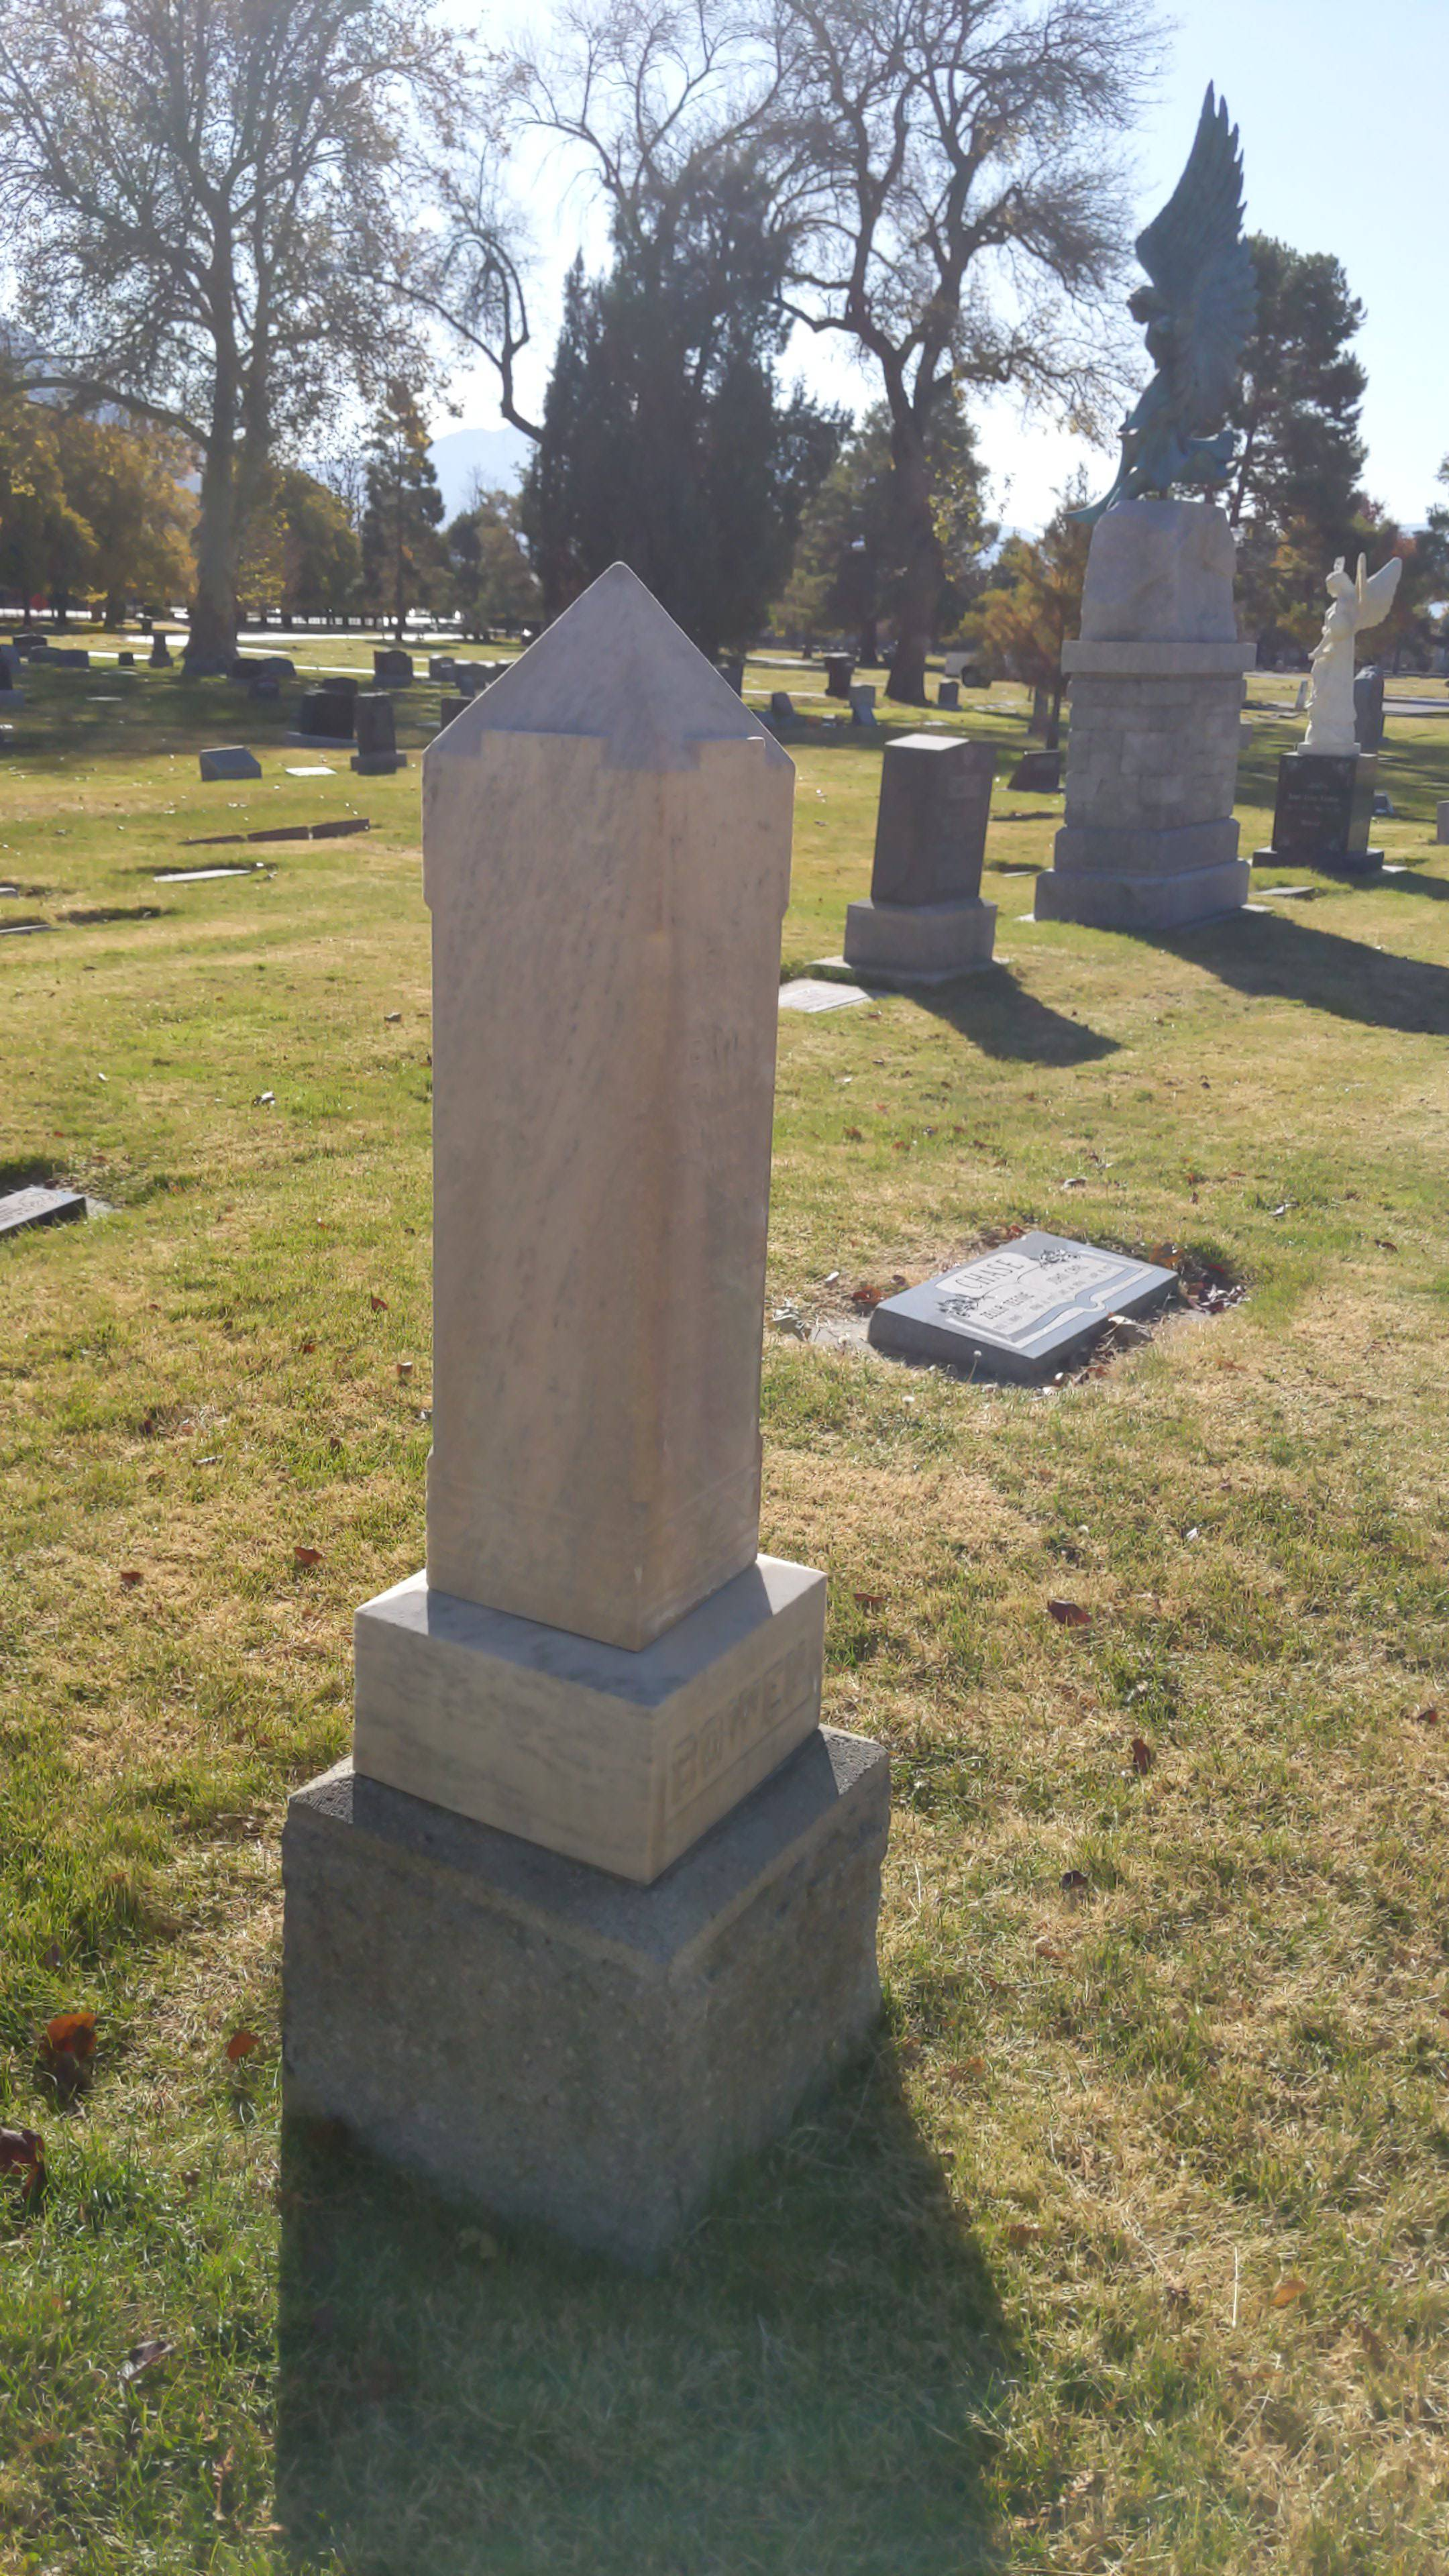obelisk: (356, 573, 832, 1888)
